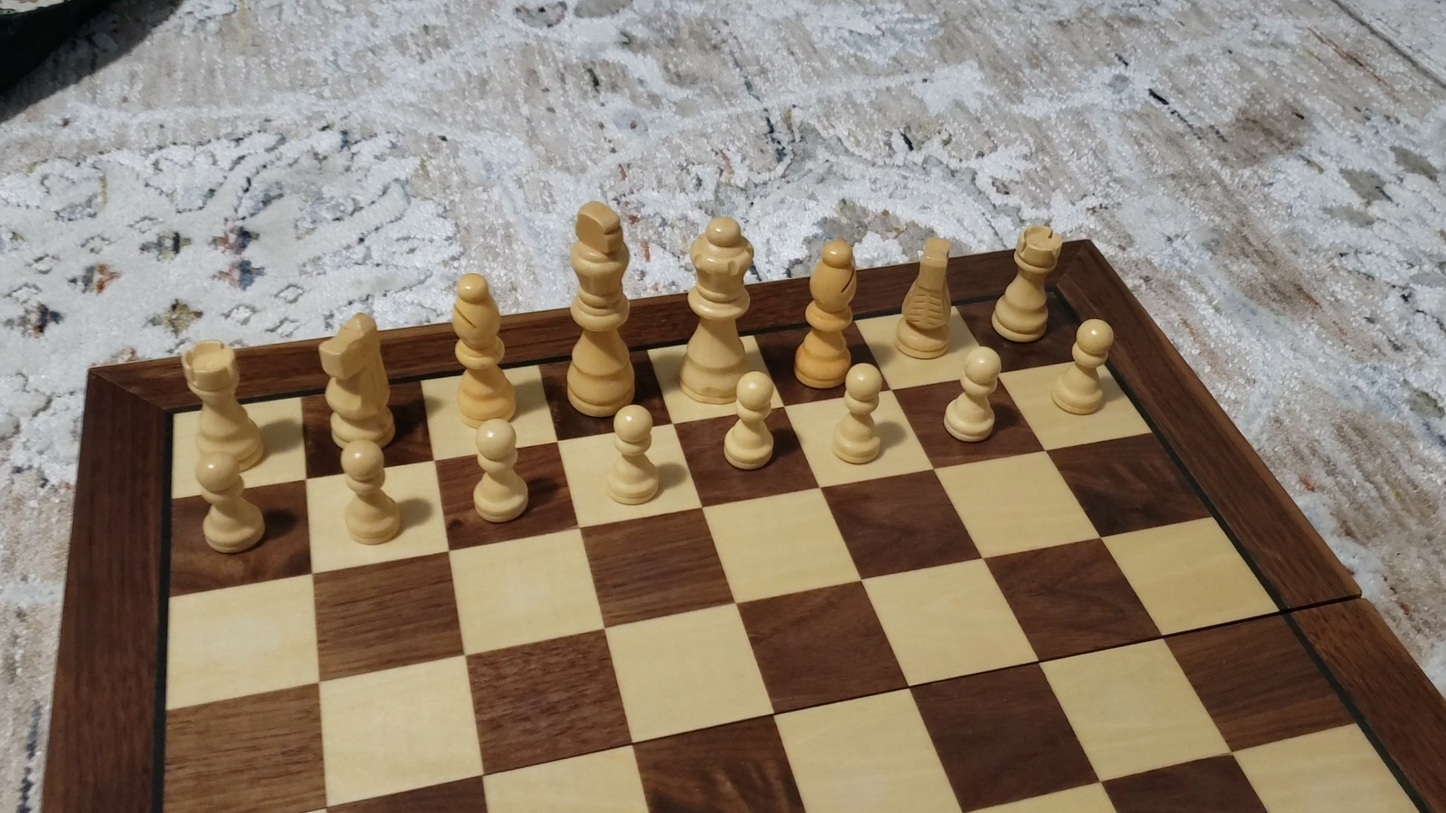white-bishop: (447, 268, 517, 434), (792, 234, 863, 392)
white-king: (560, 194, 638, 422)
white-knight: (305, 309, 407, 446), (891, 231, 956, 364)
white-pawn: (188, 452, 273, 559), (334, 439, 406, 550), (465, 416, 535, 528), (1046, 315, 1120, 419), (599, 401, 668, 510), (937, 344, 1008, 448), (717, 368, 783, 475), (827, 360, 891, 469)
white-queen: (675, 209, 758, 408)
white-rook: (177, 338, 270, 472), (988, 221, 1064, 346)
